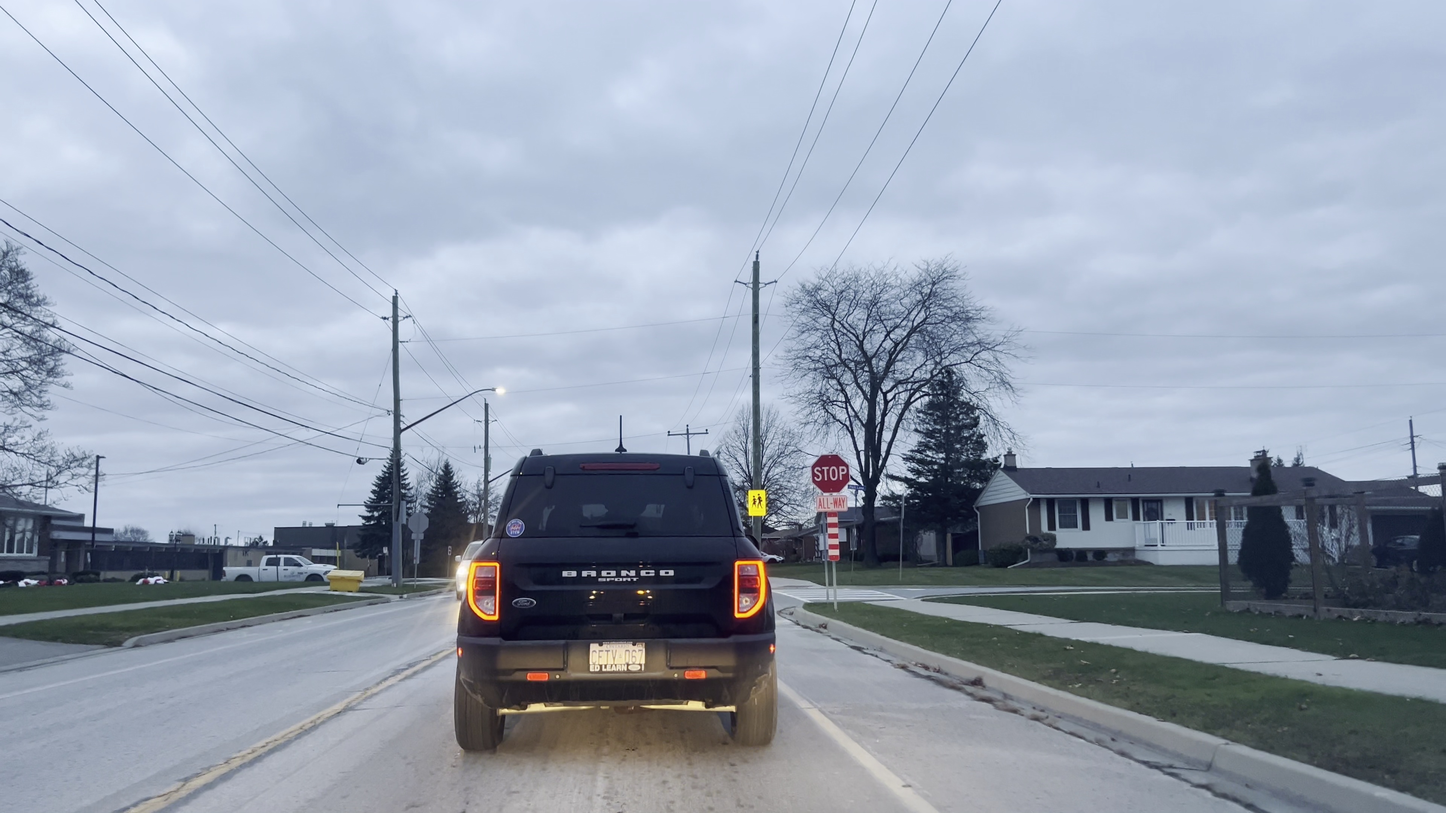cracks: (110, 731, 301, 813), (305, 683, 408, 736)
